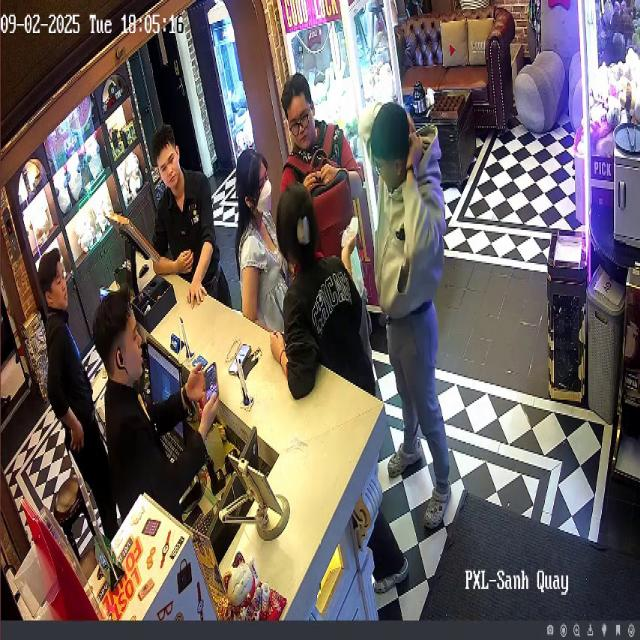khach: (362, 92, 465, 536), (274, 41, 387, 335), (270, 166, 378, 446), (237, 128, 299, 359)
nhan vien: (91, 273, 236, 568), (43, 236, 126, 552), (148, 114, 230, 325)
